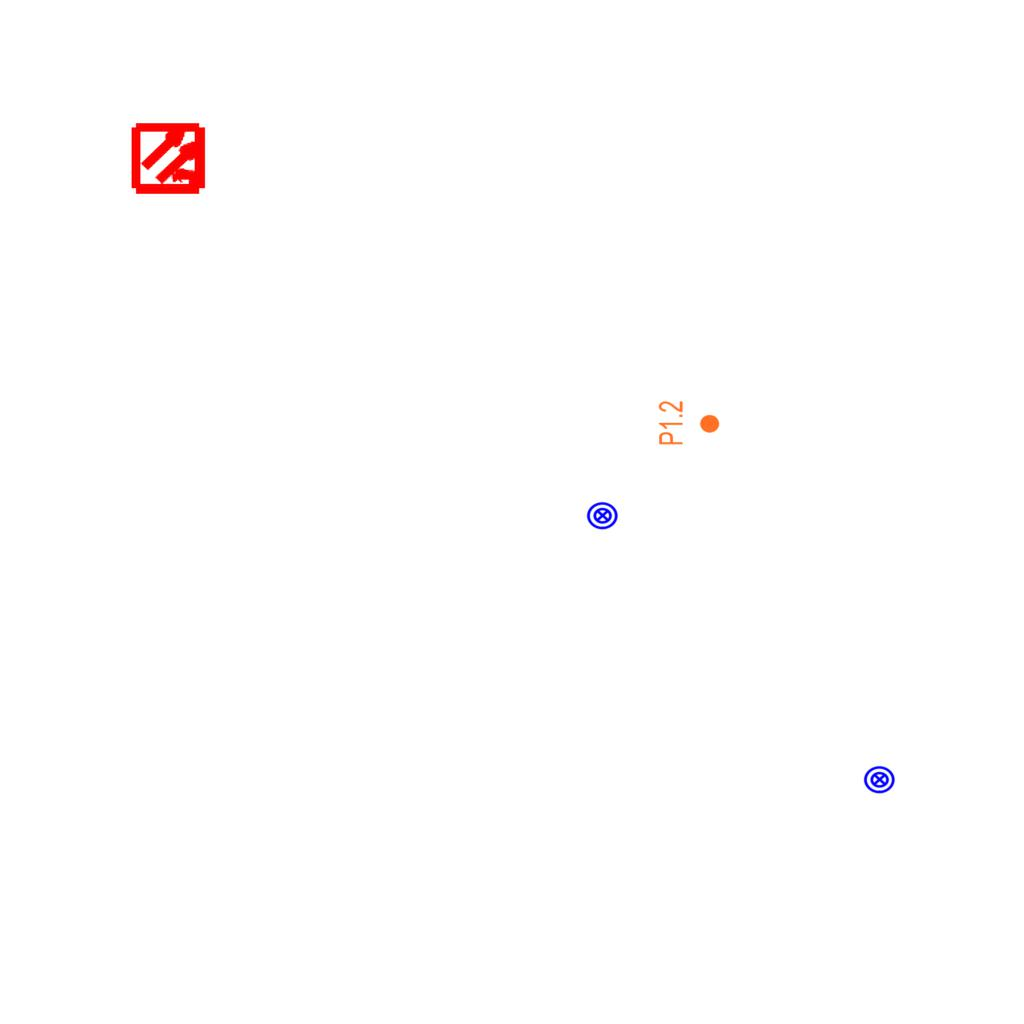Downlight_LED_Einbauleuchten_Flur: (657, 400, 721, 446)
OT_Multisensormelder_(Kombination_RMO_WMD): (114, 102, 227, 215)
Taster_beleuchtet: (586, 499, 619, 532), (863, 763, 896, 796)
